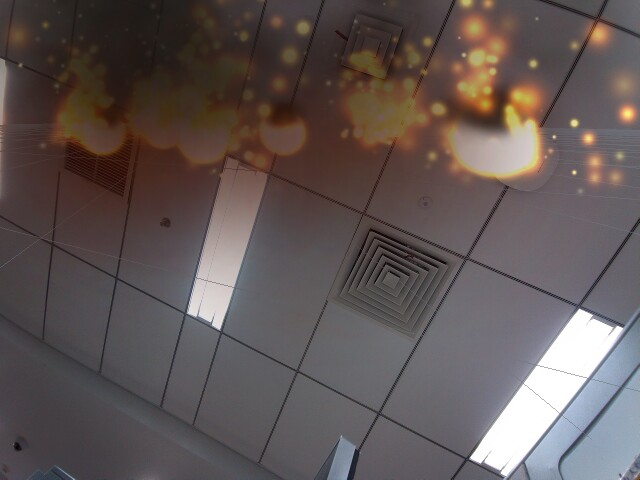fire: (458, 98, 546, 181), (178, 111, 237, 168), (72, 105, 127, 156), (259, 110, 309, 157), (142, 111, 178, 149)
